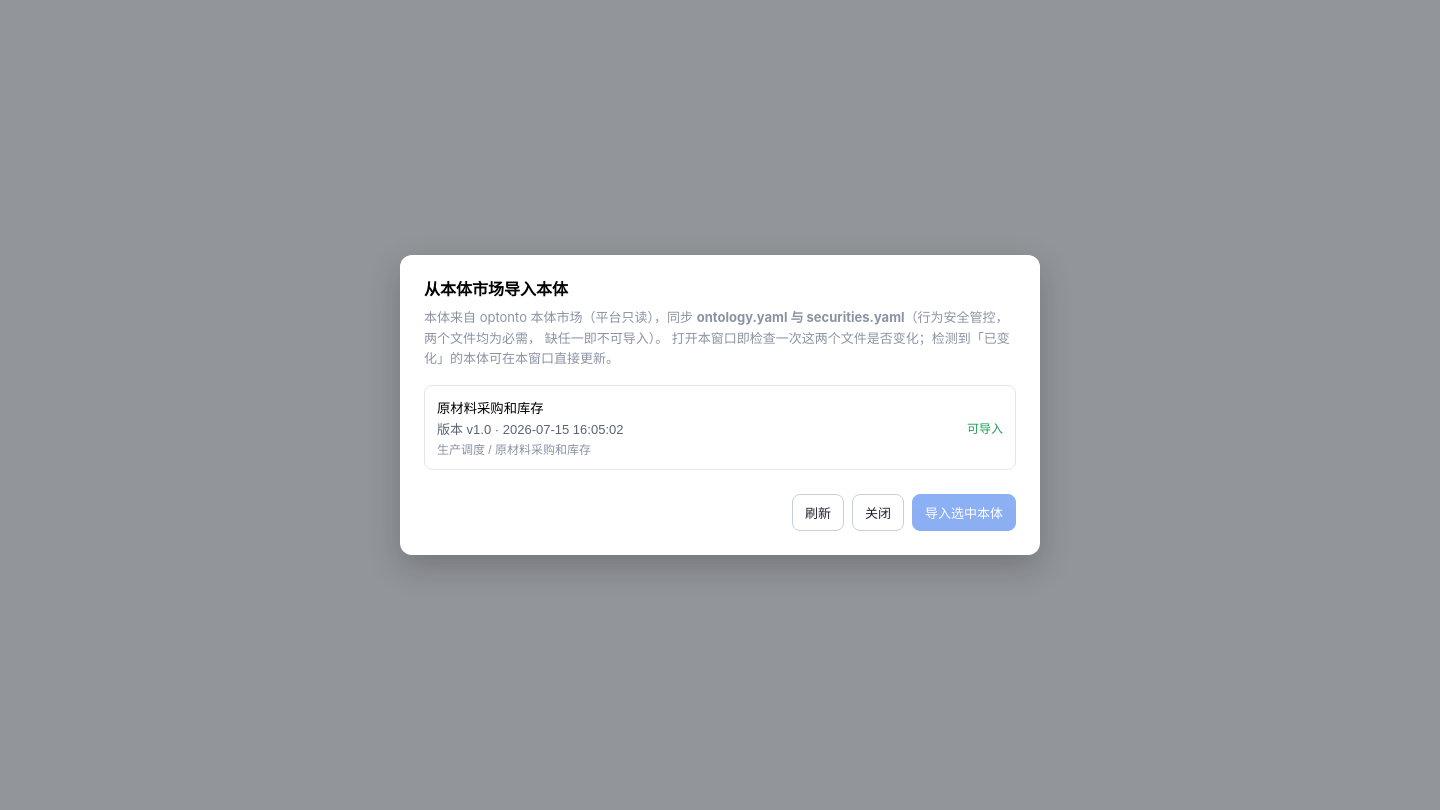
Scenario: OntologyMarketDialog —— 扫描与状态 › 打开即扫描：new 项可选中，主按钮为「导入选中本体」
The image size is (1440, 810).
Click the button with class "ontology-market__item" at (490, 410), box 424,385 -> 1016,470
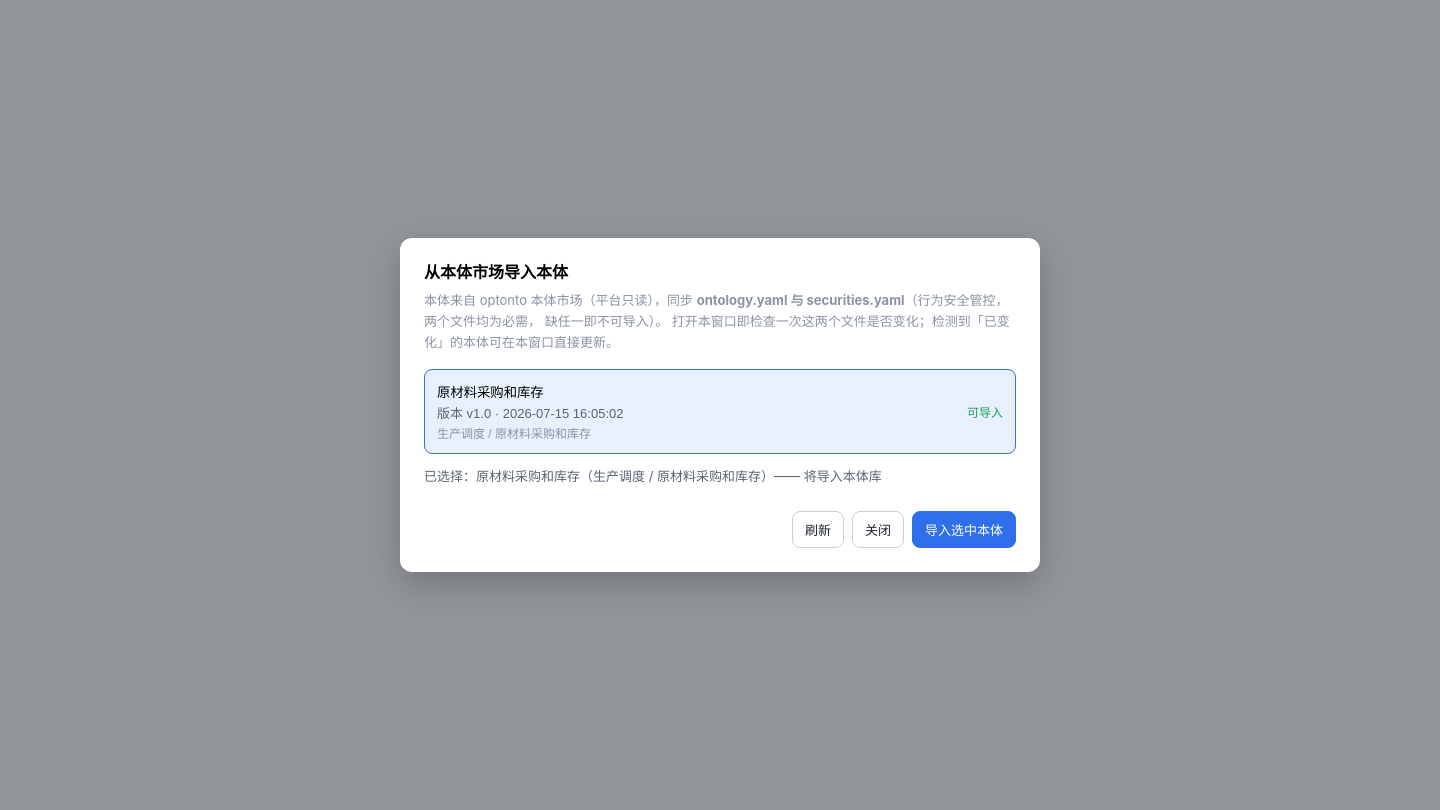
Expected: the button with test id "import" reads "导入选中本体", 912,511 -> 1016,548
Now the button with test id "import" is enabled, box 912,511 -> 1016,548
